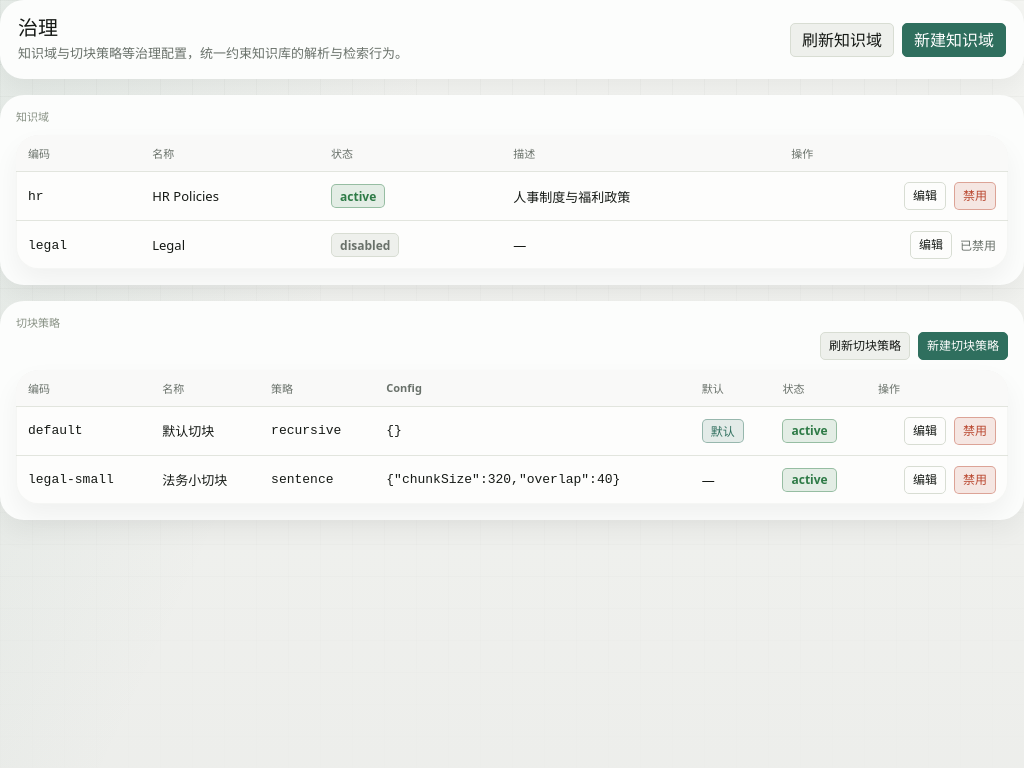
Scenario: GovernanceConsolePage knowledge domains › disables a knowledge domain through confirmation and keeps the dialog open on failure
This screenshot has width=1024, height=768.
Click the button with aria-label "禁用知识域 hr" at (975, 196), box [954,182,996,210]
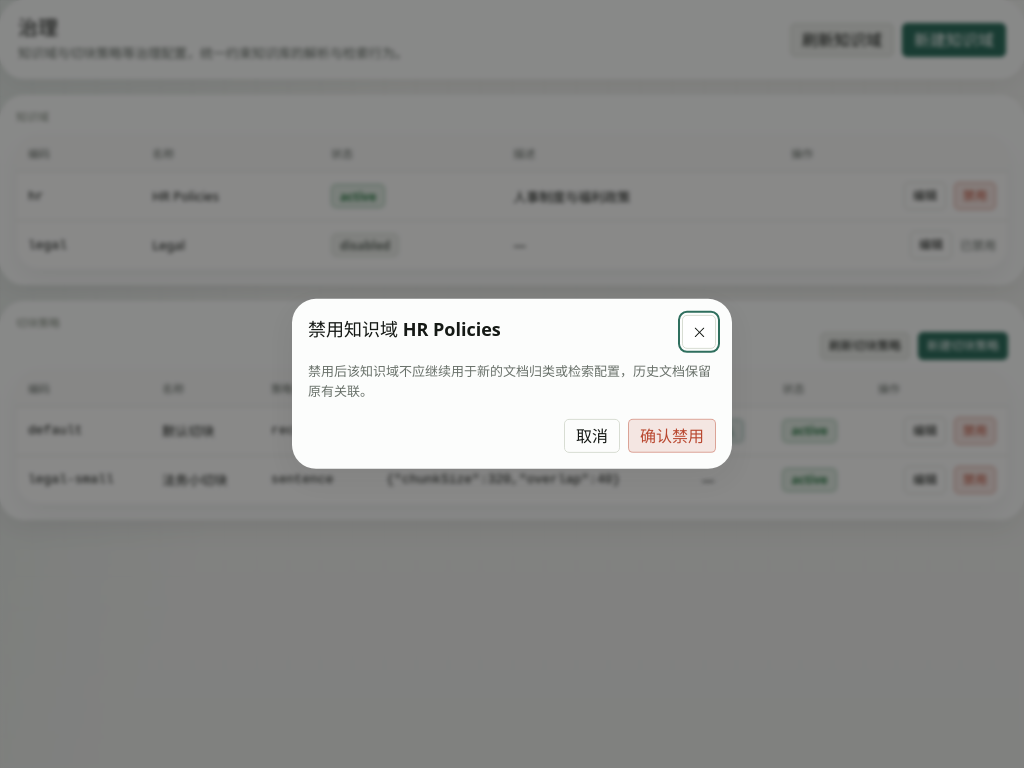
Click the button "确认禁用" at (672, 436), box [628,419,716,453]
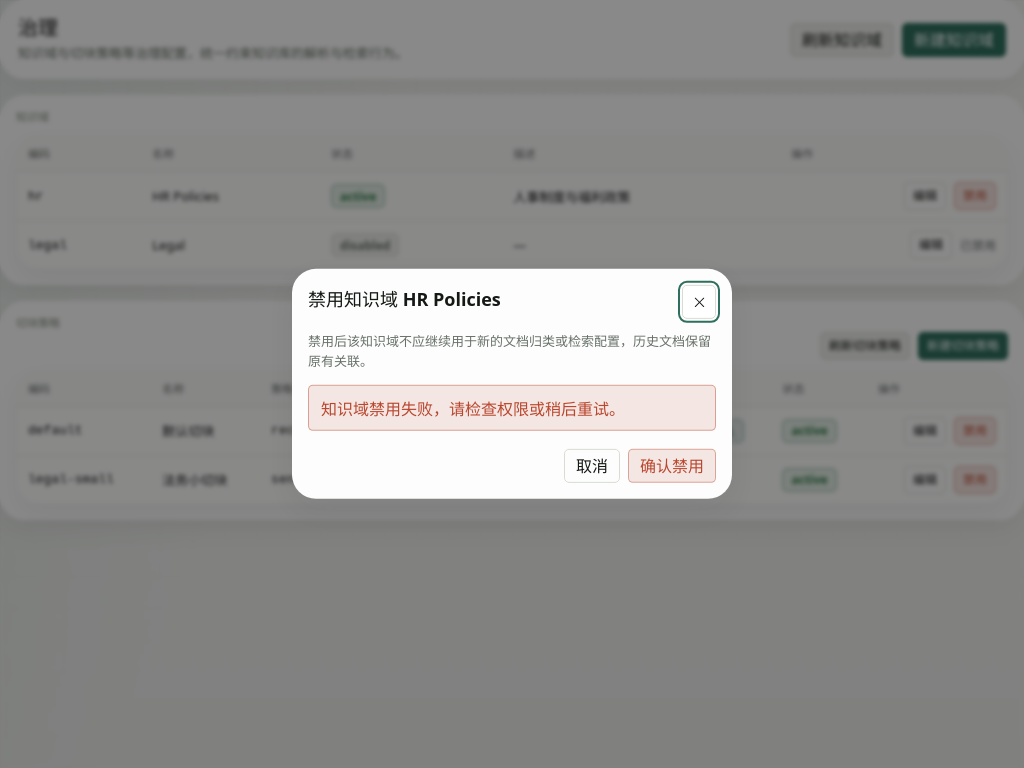
Check: the dialog "禁用知识域 HR Policies" is shown, box [292,269,732,499]
Check: the text "知识域禁用失败，请检查权限或稍后重试。" is shown, box [308,385,716,431]
